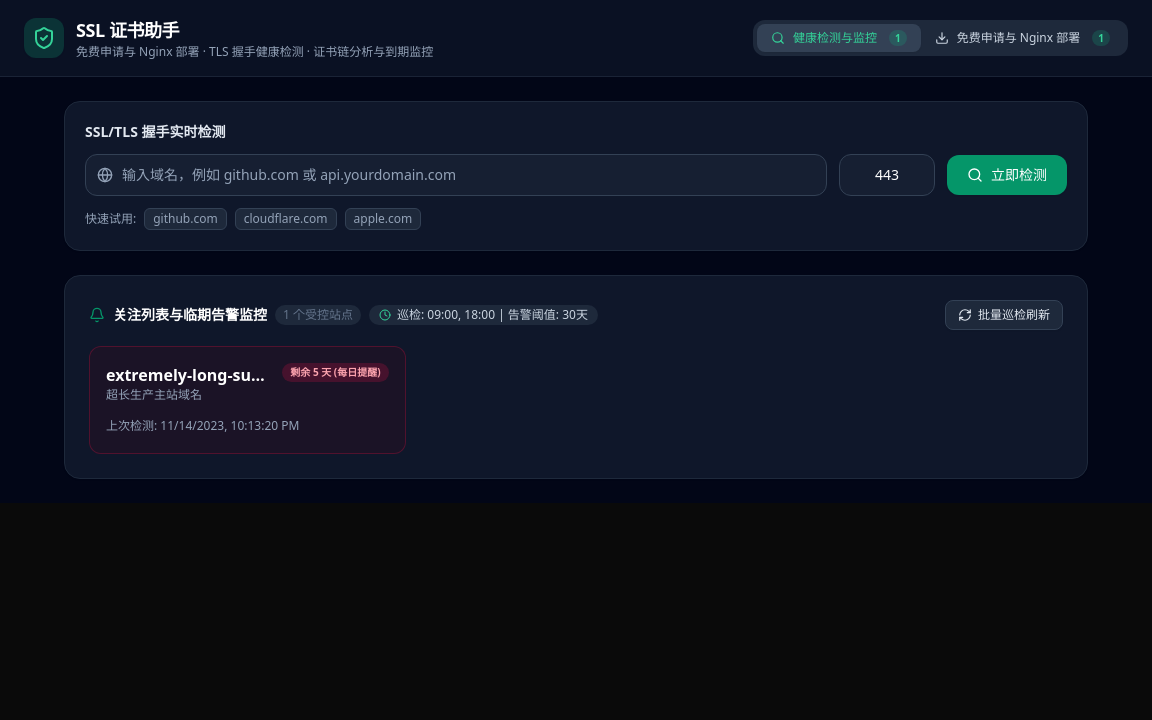
Test: SslCertificateTool › can switch tabs to issue mode and view issued certificate list
Click the button "免费申请与 Nginx 部署 1": (1022, 38) [921, 24, 1124, 52]
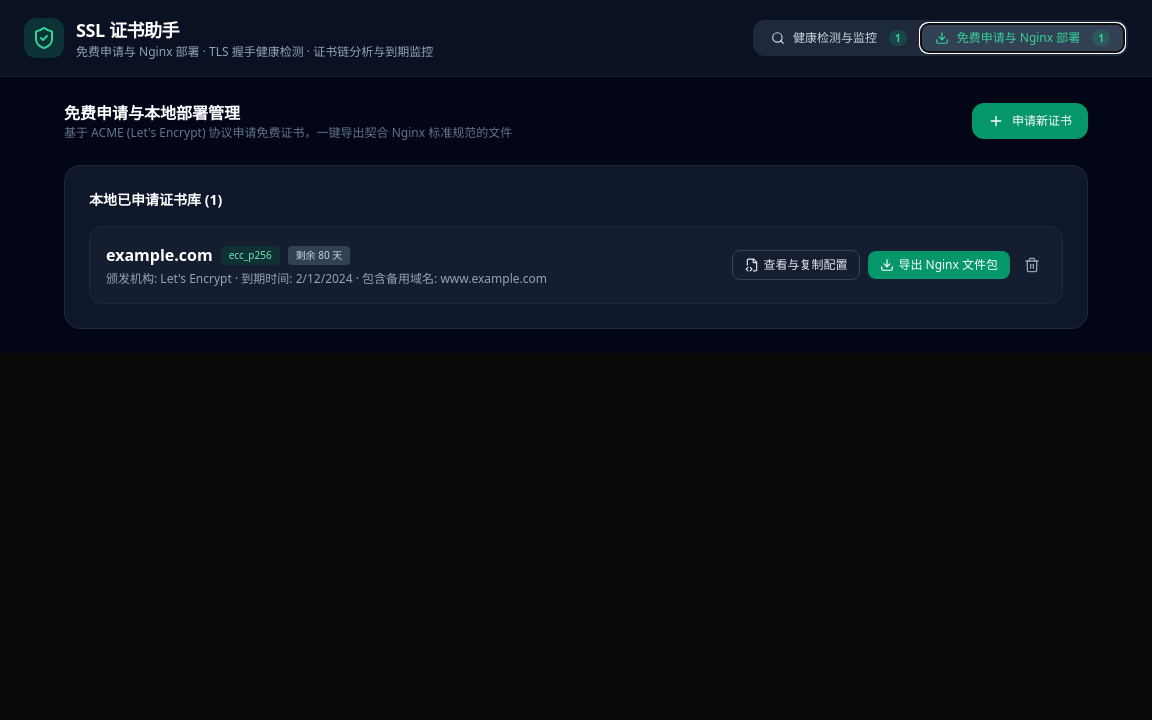
Check: the heading "本地已申请证书库 (1)" is shown, box [89, 190, 222, 209]
Check: the button "查看与复制配置" is shown, box [732, 250, 860, 280]
Check: the button "导出 Nginx 文件包" is shown, box [868, 251, 1010, 279]
